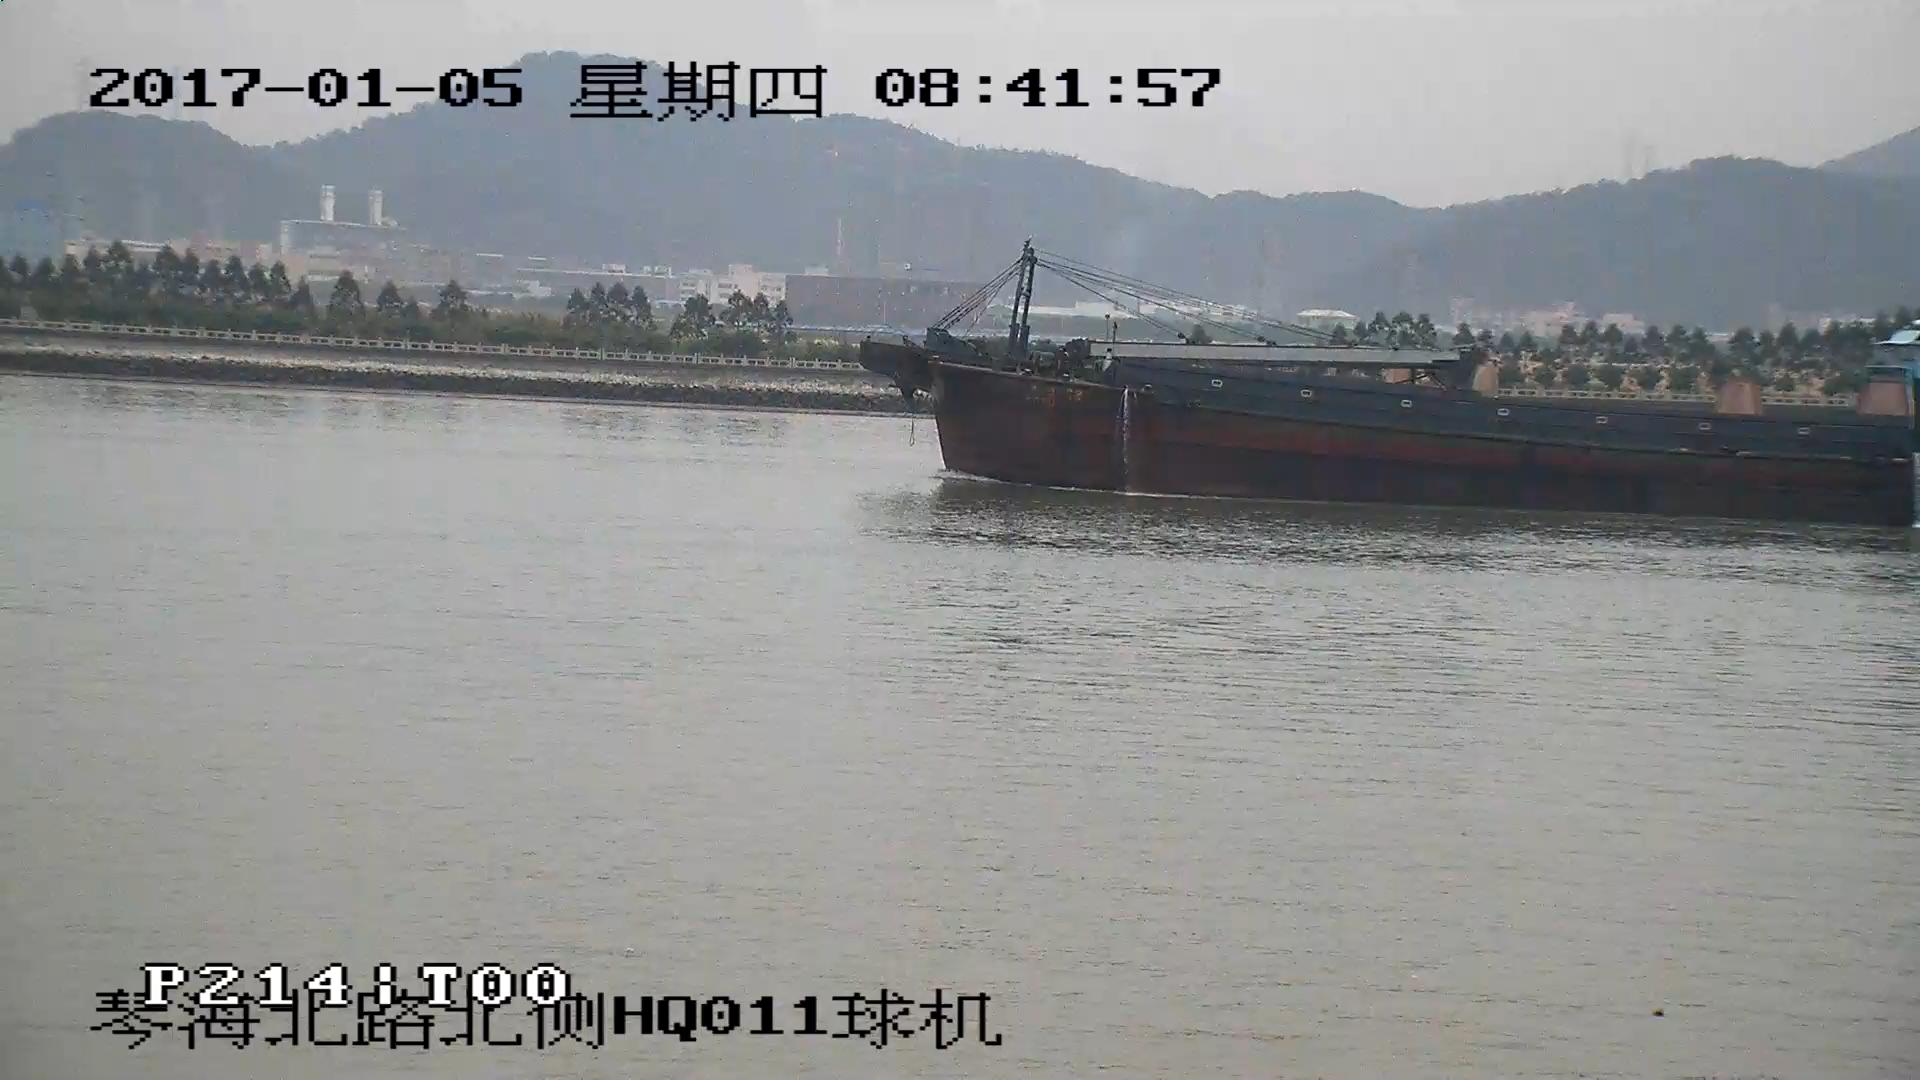bulk cargo carrier: (860, 244, 1920, 523)
